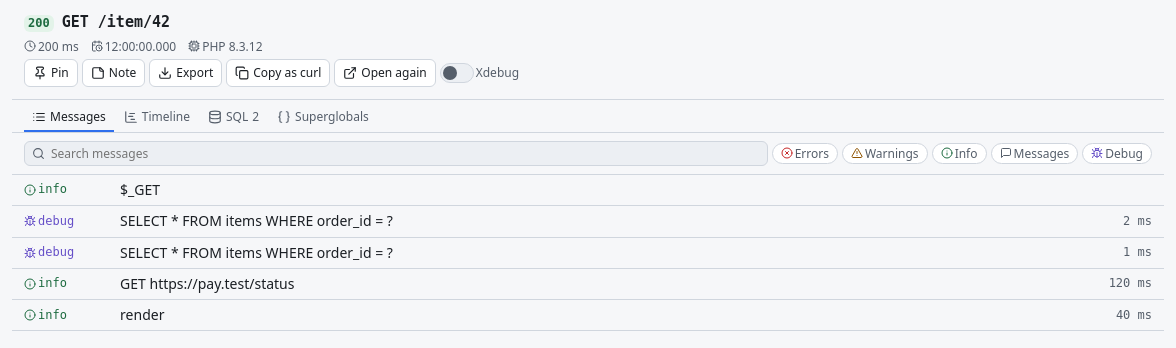
Test case: RequestDetail › views of the request › shows the superglobals with their values
Click the tab "Superglobals" at (323, 116), box [269,100,377,132]
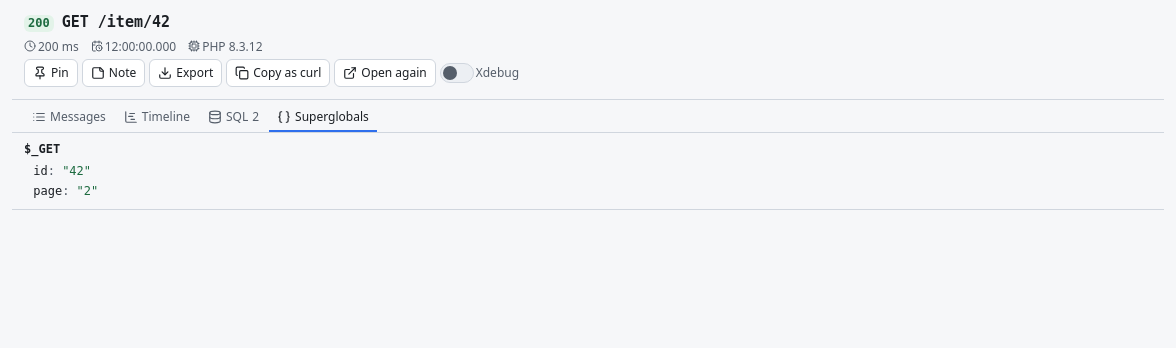
Check: the heading "$_GET" is shown, box [24,142,60,156]
Check: the text "page" is shown, box [33,184,62,198]
